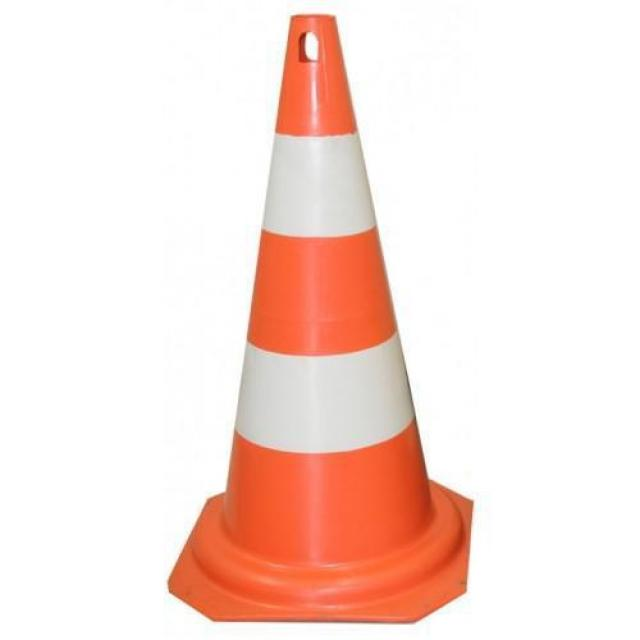cone: (148, 0, 504, 626)
